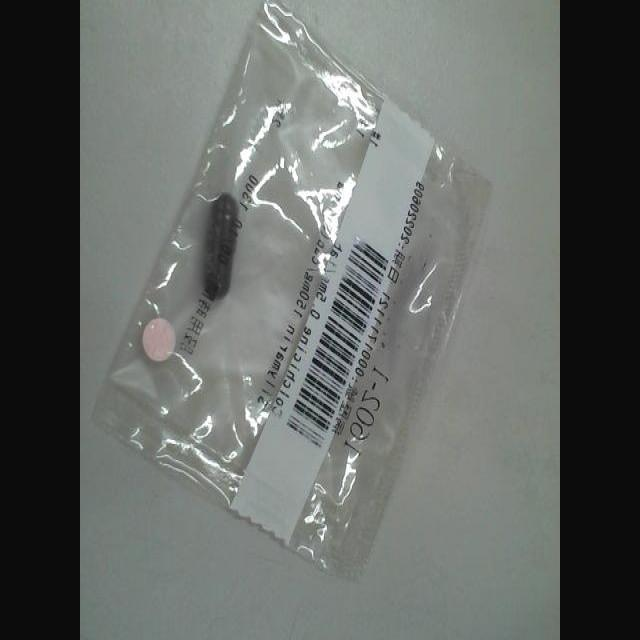pill: (196, 188, 241, 312), (140, 312, 178, 364)
